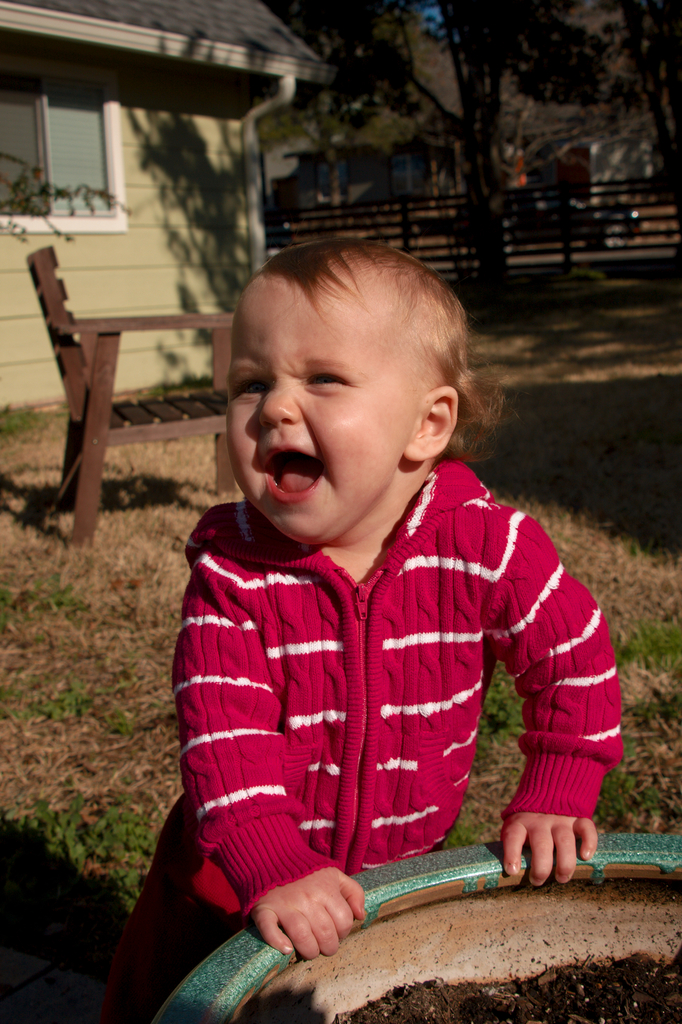Human_hand: (264, 879, 376, 964), (498, 809, 599, 897)
